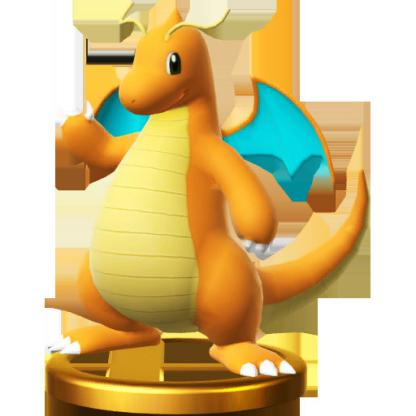Dragonite: (54, 17, 386, 390)
